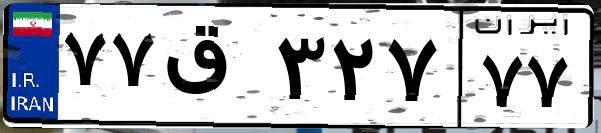2: (330, 28, 385, 110)
3: (270, 28, 330, 110)
7: (385, 28, 445, 110), (57, 26, 110, 100), (475, 38, 525, 113), (525, 38, 570, 115), (110, 28, 158, 98)
ق: (158, 20, 270, 120)
